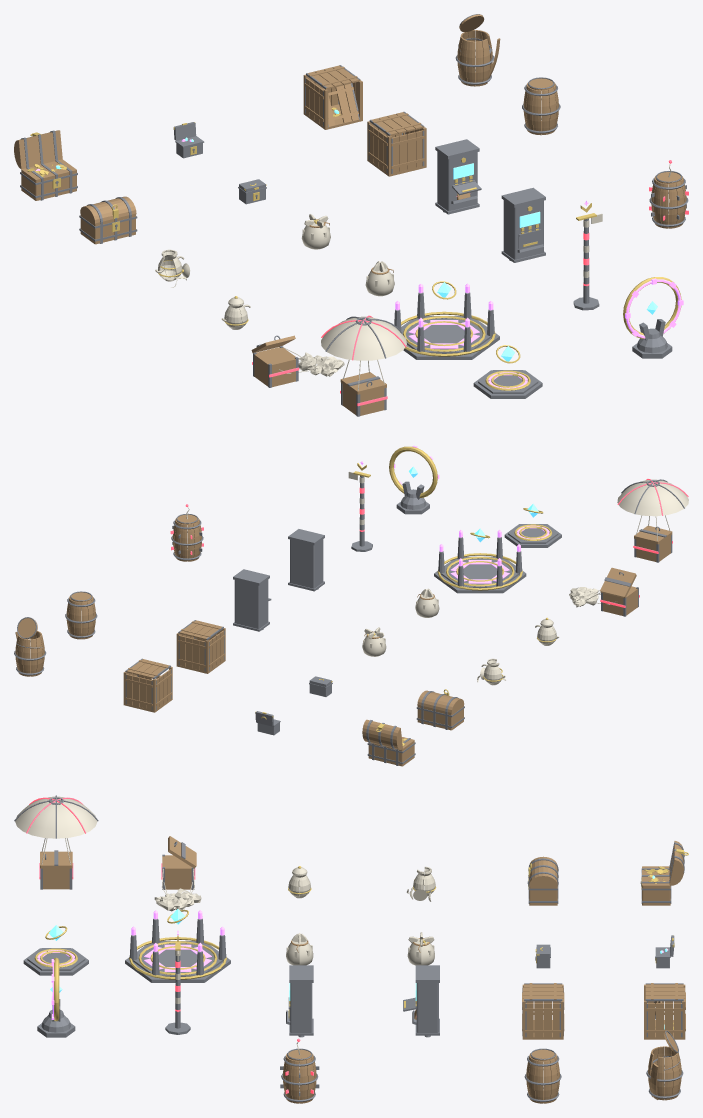
The model's file is pickups-and-collectibles-container-states-72739c7a__19989.glb.
3 renders of one model, top to bottom at view 1: azimuth 30°, elevation 25°; view 2: azimuth 150°, elevation 25°; view 3: azimuth 270°, elevation 25°, orthographic. The views are drawn at different scales.
Parts seen in each view (by area): view 1: 018-spawner-pad-large/base/iron, 015-supply-drop/body/bone, 013-vending-hatch-open/body/iron, 012-vending-hatch/body/iron, 018-spawner-pad-large/ring/gold, 016-supply-drop-landed/body/timber, 001-treasure-chest-open/body/timber, 001-treasure-chest-open/lid/timber, 017-spawner-pad/base/iron, 004-supply-crate/panelFront/timber, 019-respawn-ring/base/iron, 007-barrel-staved/staveB/timber (+17 smaller); view 2: 018-spawner-pad-large/base/iron, 013-vending-hatch-open/body/iron, 012-vending-hatch/body/iron, 015-supply-drop/body/bone, 018-spawner-pad-large/ring/gold, 004-supply-crate/panelBack/timber, 005-supply-crate-staved/panelBack/timber, 017-spawner-pad/base/iron, 001-treasure-chest-open/lid/timber, 019-respawn-ring/base/iron, 019-respawn-ring/ring/gold, 000-treasure-chest/body/timber (+12 smaller); view 3: 018-spawner-pad-large/base/iron, 015-supply-drop/body/bone, 012-vending-hatch/body/iron, 013-vending-hatch-open/body/iron, 004-supply-crate/panelLeft/timber, 018-spawner-pad-large/ring/gold, 005-supply-crate-staved/panelLeft/timber, 017-spawner-pad/base/iron, 001-treasure-chest-open/body/timber, 016-supply-drop-landed/body/timber, 016-supply-drop-landed/body/bone, 018-spawner-pad-large/base/arcane (+16 smaller).
Boxes of the visible parts, bbox=[...] form: 018-spawner-pad-large/base/iron: bbox=[394, 292, 499, 359]; 015-supply-drop/body/bone: bbox=[321, 316, 406, 390]; 013-vending-hatch-open/body/iron: bbox=[435, 139, 479, 214]; 012-vending-hatch/body/iron: bbox=[501, 187, 545, 262]; 018-spawner-pad-large/ring/gold: bbox=[401, 311, 495, 356]; 016-supply-drop-landed/body/timber: bbox=[254, 347, 295, 387]; 001-treasure-chest-open/body/timber: bbox=[21, 159, 76, 200]; 001-treasure-chest-open/lid/timber: bbox=[14, 130, 62, 169]; 017-spawner-pad/base/iron: bbox=[473, 370, 542, 398]; 004-supply-crate/panelFront/timber: bbox=[391, 130, 424, 173]; 019-respawn-ring/base/iron: bbox=[632, 319, 672, 358]; 007-barrel-staved/staveB/timber: bbox=[460, 39, 483, 86]; 018-spawner-pad-large/base/iron: bbox=[434, 537, 526, 593]; 013-vending-hatch-open/body/iron: bbox=[233, 569, 269, 631]; 012-vending-hatch/body/iron: bbox=[288, 529, 324, 591]; 015-supply-drop/body/bone: bbox=[617, 479, 688, 540]; 018-spawner-pad-large/ring/gold: bbox=[437, 553, 522, 590]; 004-supply-crate/panelBack/timber: bbox=[178, 635, 205, 671]; 005-supply-crate-staved/panelBack/timber: bbox=[125, 674, 152, 709]; 017-spawner-pad/base/iron: bbox=[504, 524, 561, 547]; 001-treasure-chest-open/lid/timber: bbox=[362, 719, 402, 749]; 019-respawn-ring/base/iron: bbox=[396, 481, 429, 514]; 019-respawn-ring/ring/gold: bbox=[389, 446, 437, 497]; 000-treasure-chest/body/timber: bbox=[417, 705, 463, 730]; 018-spawner-pad-large/base/iron: bbox=[125, 918, 230, 982]; 015-supply-drop/body/bone: bbox=[15, 796, 97, 864]; 012-vending-hatch/body/iron: bbox=[286, 965, 313, 1037]; 013-vending-hatch-open/body/iron: bbox=[412, 965, 439, 1037]; 004-supply-crate/panelLeft/timber: bbox=[525, 1003, 560, 1037]; 018-spawner-pad-large/ring/gold: bbox=[129, 937, 226, 979]; 005-supply-crate-staved/panelLeft/timber: bbox=[646, 1003, 682, 1037]; 017-spawner-pad/base/iron: bbox=[23, 948, 88, 975]; 001-treasure-chest-open/body/timber: bbox=[642, 866, 670, 905]; 016-supply-drop-landed/body/timber: bbox=[162, 855, 191, 889]; 016-supply-drop-landed/body/bone: bbox=[154, 868, 201, 911]; 018-spawner-pad-large/base/arcane: bbox=[131, 910, 224, 971].
Bounding box in the file's own units: 10.22 × 2.07 × 12.76.
